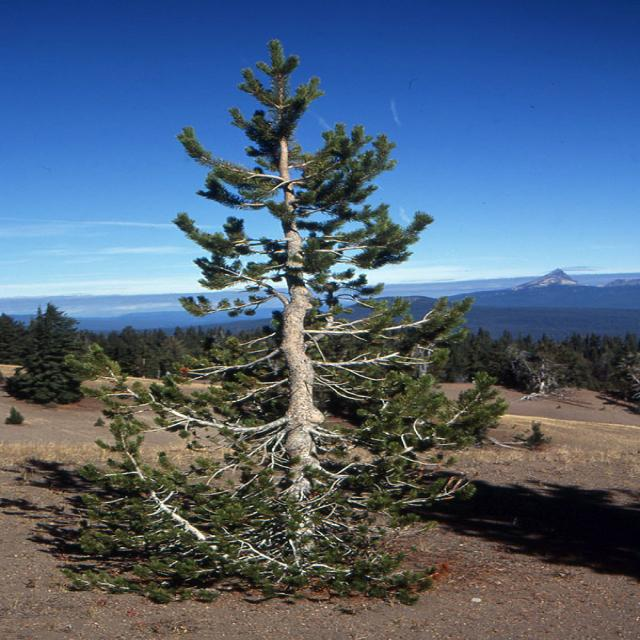Pinus contorta var. latifolia: (48, 15, 514, 607)
